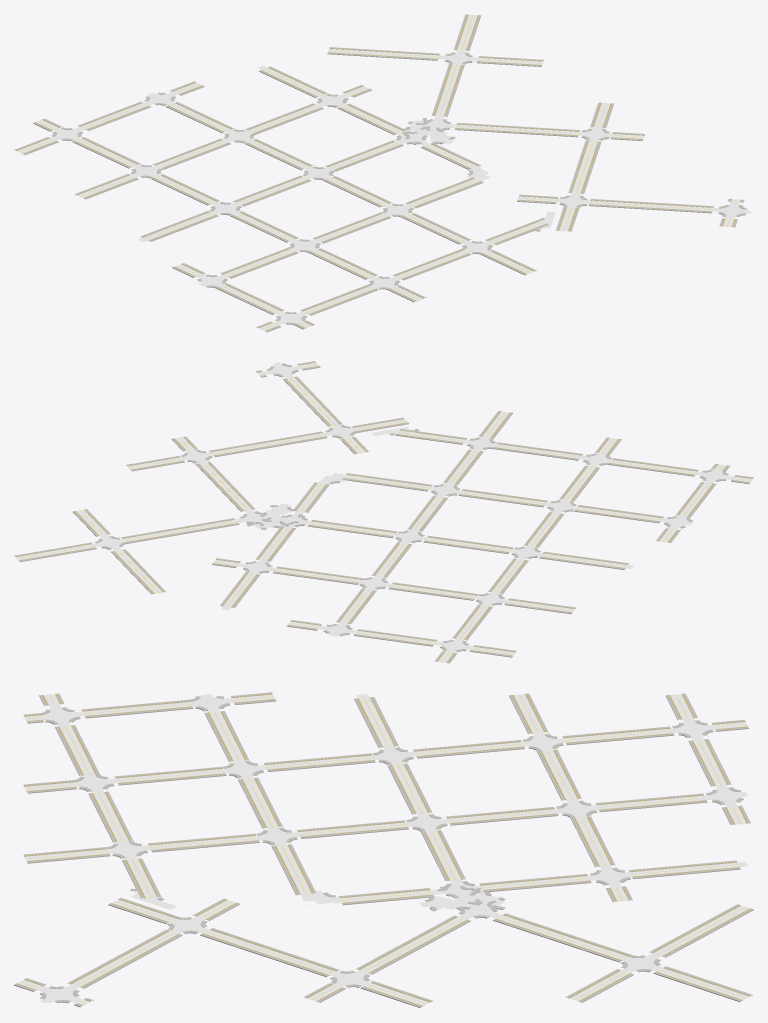
File: roads_-1_1.gltf
3 renders of one model, top to bottom at view 1: azimuth 30°, elevation 25°; view 2: azimuth 150°, elevation 25°; view 3: azimuth 270°, elevation 25°, orthographic. The views are drawn at different scales.
Visible parts, largest first — view 1: roads_-1_1_SH_wet_asphalt, roads_-1_1_SH_sidewalk, roads_-1_1_Road_Tactile_Strip, roads_-1_1_SH_kerb, roads_-1_1_SH_road_marking_yellow, roads_-1_1_SH_road_marking_white; view 2: roads_-1_1_SH_wet_asphalt, roads_-1_1_SH_sidewalk, roads_-1_1_Road_Tactile_Strip, roads_-1_1_SH_kerb, roads_-1_1_SH_road_marking_white, roads_-1_1_SH_road_marking_yellow; view 3: roads_-1_1_SH_wet_asphalt, roads_-1_1_SH_sidewalk, roads_-1_1_Road_Tactile_Strip, roads_-1_1_SH_kerb, roads_-1_1_SH_road_marking_white, roads_-1_1_SH_road_marking_yellow.
Part boxes in pixels (box(x1,y1,x2,y2)): roads_-1_1_SH_wet_asphalt: box(17, 14, 751, 330); roads_-1_1_SH_sidewalk: box(14, 14, 746, 332); roads_-1_1_Road_Tactile_Strip: box(16, 15, 741, 331); roads_-1_1_SH_kerb: box(16, 15, 744, 330); roads_-1_1_SH_road_marking_yellow: box(21, 16, 736, 329); roads_-1_1_SH_road_marking_white: box(21, 16, 741, 326); roads_-1_1_SH_wet_asphalt: box(15, 362, 752, 662); roads_-1_1_SH_sidewalk: box(14, 361, 753, 663); roads_-1_1_Road_Tactile_Strip: box(15, 362, 752, 662); roads_-1_1_SH_kerb: box(16, 362, 752, 662); roads_-1_1_SH_road_marking_white: box(27, 364, 750, 662); roads_-1_1_SH_road_marking_yellow: box(23, 364, 750, 661); roads_-1_1_SH_wet_asphalt: box(17, 694, 749, 1005); roads_-1_1_SH_sidewalk: box(14, 692, 753, 1007); roads_-1_1_Road_Tactile_Strip: box(16, 693, 750, 1006); roads_-1_1_SH_kerb: box(17, 694, 749, 1006); roads_-1_1_SH_road_marking_white: box(24, 694, 749, 1001); roads_-1_1_SH_road_marking_yellow: box(22, 694, 746, 1003).
Size of what is drawn, in the model's own units: 530 by 0.506 by 524.
